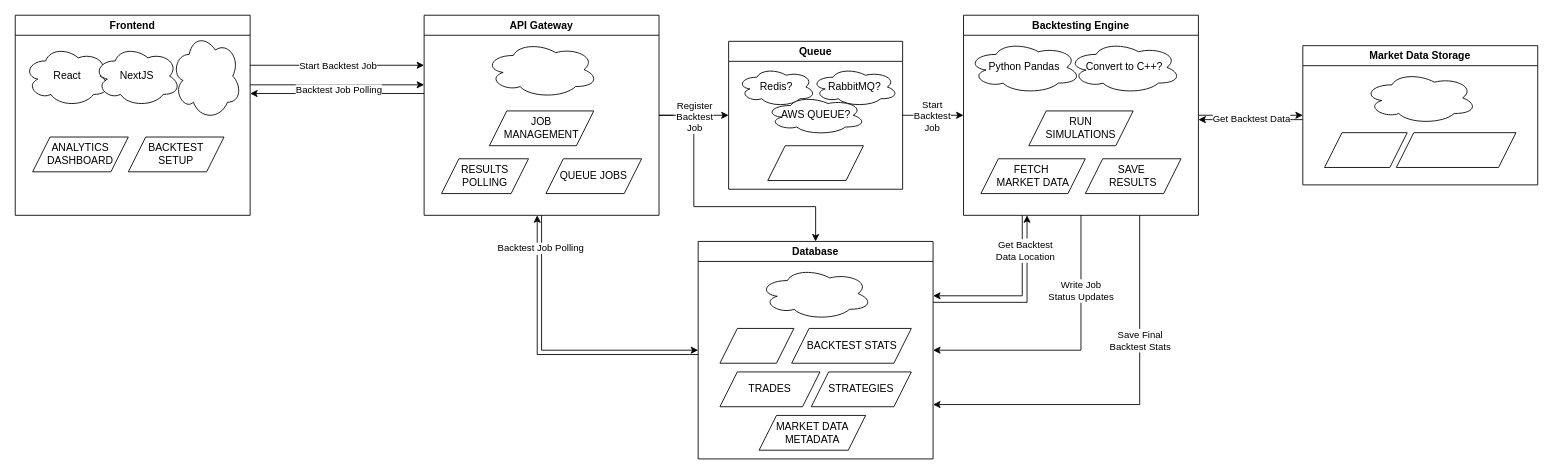
Image size: 1553x474. Some labels were removed from this diagram. The centre of each missing label's shape, as x and y in pixels:
"AWS S3?" goes at point (1420, 97).
"JOBS" goes at point (756, 345).
"MANAGE QUEUE" goes at point (815, 163).
"OHLCV DATA" goes at point (1455, 149).
"PostgreSQL" goes at point (815, 293).
"Python FastAPI" goes at point (541, 69).
"RAW DATA" goes at point (1365, 149).
"Runs on EC2?" goes at point (206, 76).
